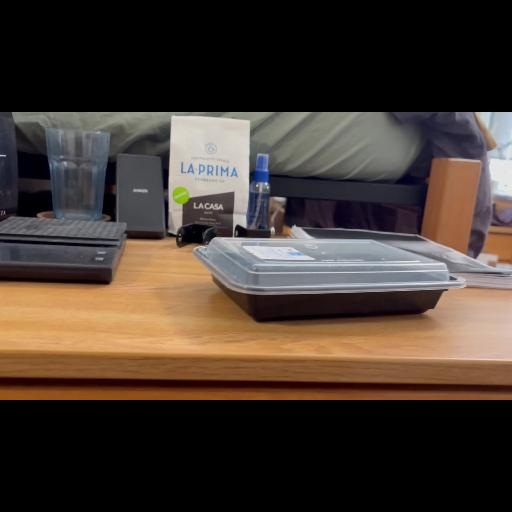rigid_plastic_container: (198, 238, 462, 322)
